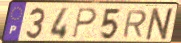3: (24, 6, 46, 41)
4: (49, 6, 69, 41)
5: (97, 7, 123, 41)
N: (143, 7, 177, 42)
P: (71, 7, 99, 40)
R: (121, 9, 148, 39)
